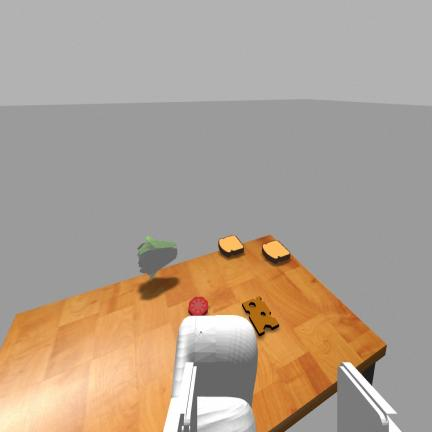cheese: (243, 296, 278, 335)
lettuce: (138, 236, 177, 280)
sliced_bread: (262, 241, 290, 263), (218, 235, 244, 256)
sliced_tomato: (189, 296, 208, 315)
